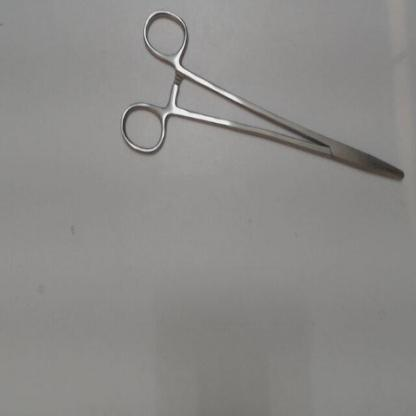8 Mayo Needle Holder: (112, 5, 412, 192)
